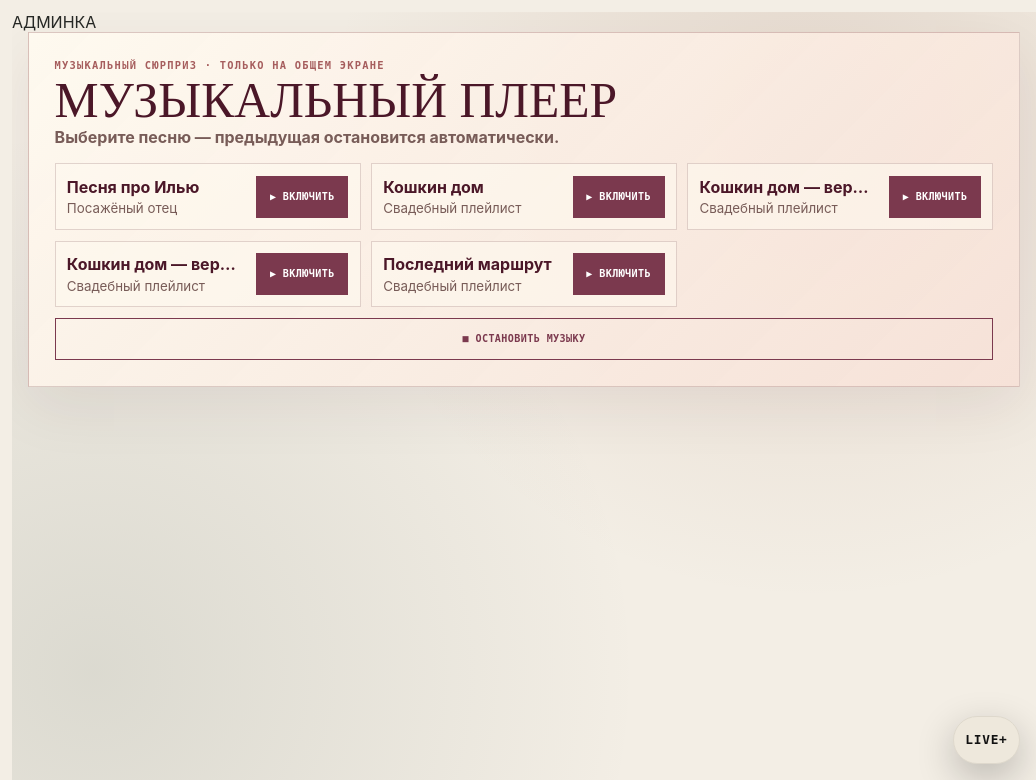
Test: AdminWeddingLiveDock radio › keeps the music controls at the bottom of the admin and sends the selected track or stop to the screen
Later steps or results of the test are not shown.
Expected: the text "Песня про Илью" is shown, [67,177,199,197]
Expected: the text "Кошкин дом" is shown, [383,177,484,197]
Click the button with aria-label "Включить на экране: Кошкин дом — версия 2": (935, 197) [889,176,981,218]
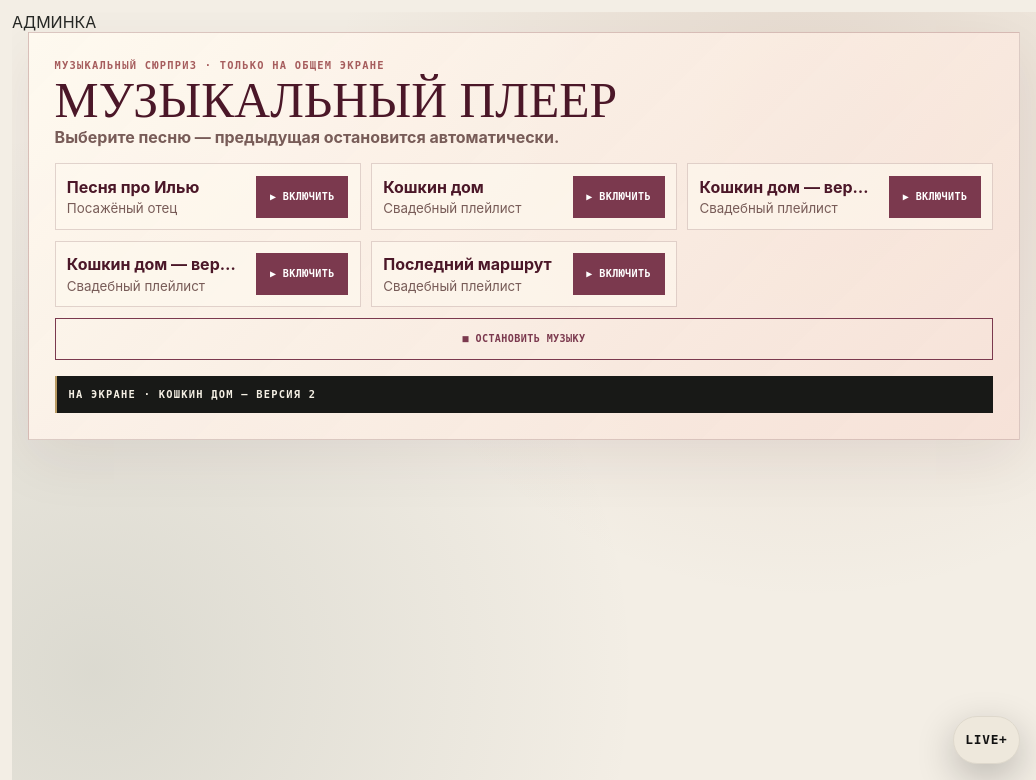
Result: the text "НА ЭКРАНЕ · КОШКИН ДОМ — ВЕРСИЯ 2" is shown at [55,376,993,413]
